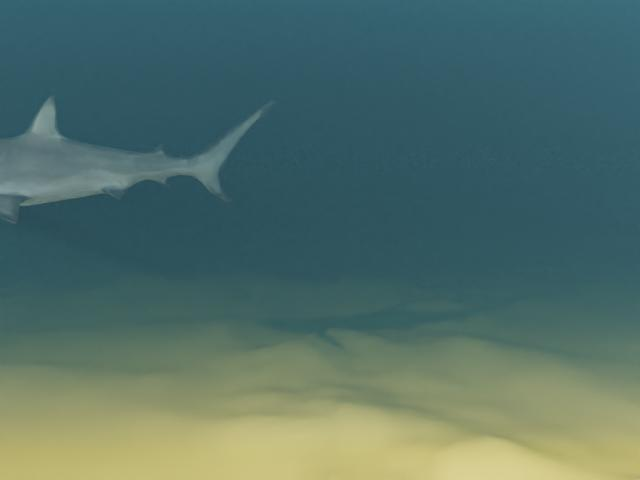Carribean Shark.001: (0, 95, 275, 223)
